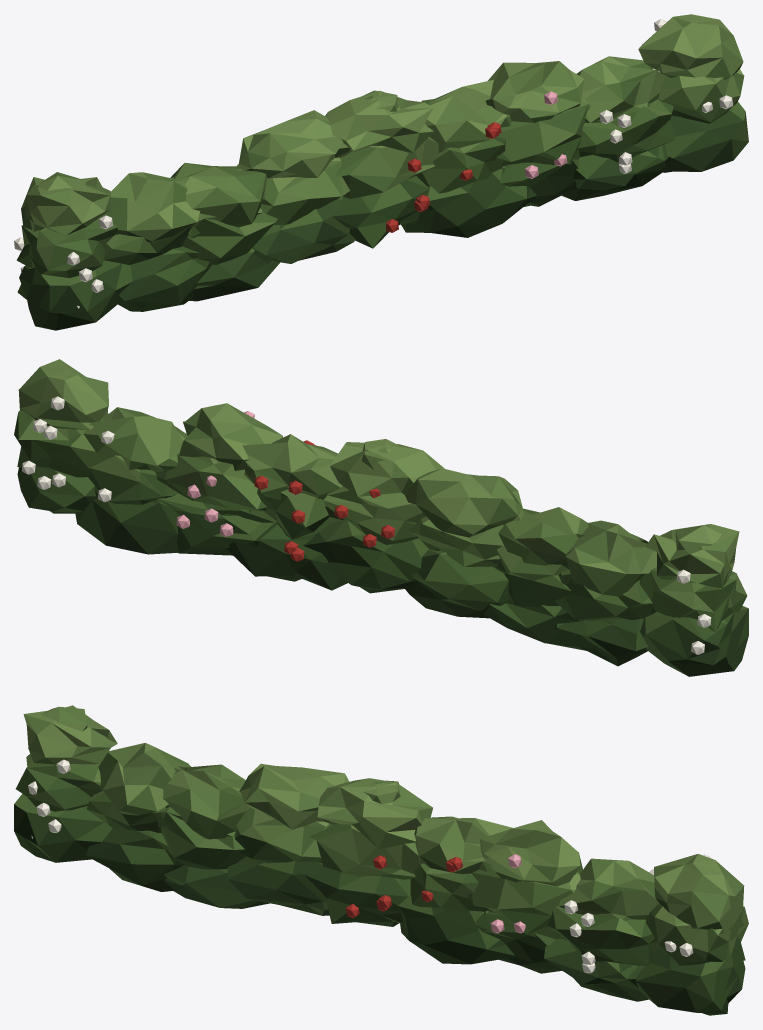
File: lwf_hedge_straight_8m_b_v1.glb
The picture shows the model from 3 angles, top to bottom: view 1: azimuth 30°, elevation 25°; view 2: azimuth 150°, elevation 25°; view 3: azimuth 330°, elevation 25°; orthographic projection.
Visible parts, largest first — view 1: lwf_hedge_straight_8m_b_v1; view 2: lwf_hedge_straight_8m_b_v1; view 3: lwf_hedge_straight_8m_b_v1.
Part boxes in pixels (<box>): lwf_hedge_straight_8m_b_v1: <box>14,14,748,330</box>; lwf_hedge_straight_8m_b_v1: <box>14,359,748,676</box>; lwf_hedge_straight_8m_b_v1: <box>14,705,748,1015</box>.
Size of the model in its own units: 8.2 by 1.76 by 1.
1 material, 1 textured.
